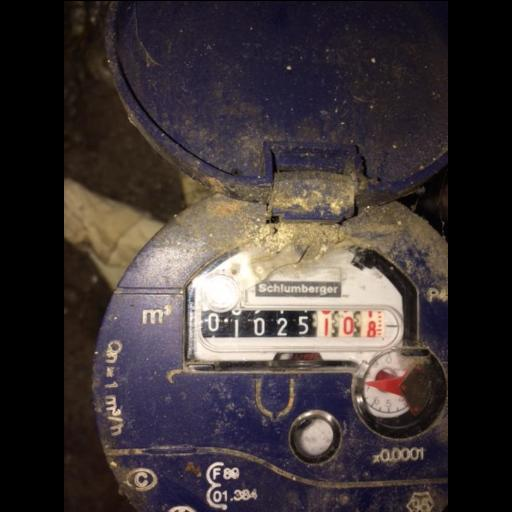0: (248, 310, 273, 339), (337, 310, 360, 339), (201, 311, 225, 337)
1: (225, 310, 247, 339), (314, 310, 336, 339)
2: (273, 310, 294, 339)
5: (293, 310, 315, 339)
8: (359, 310, 384, 339)
border_water_meter_number: (199, 307, 398, 347)
